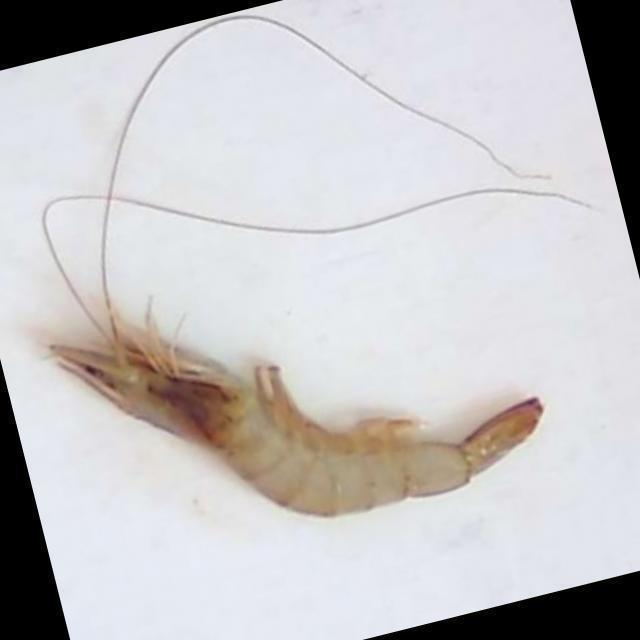shrimp: (50, 346, 543, 517)
